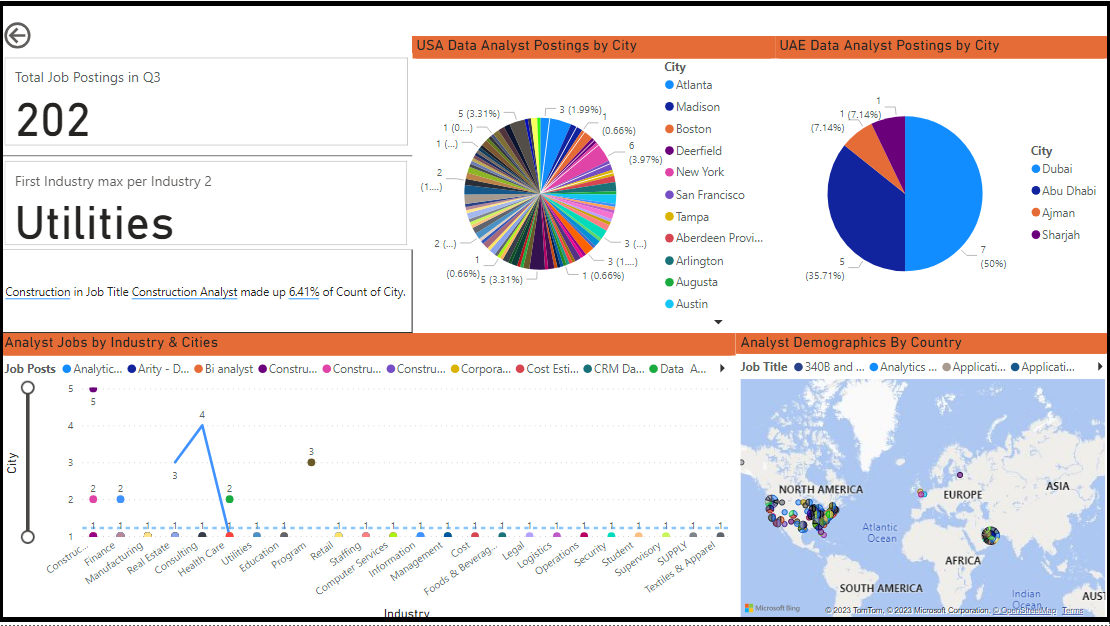

Layout of this report page (visuals, bound fields, positions):
{"tool":"powerbi","page":{"name":"Page 1","canvas":[1280,720],"ordinal":0},"visuals":[{"type":"pieChart","fields":{"Y":["CountNonNull(UAE Data 2(uae_data_jobs).Job Title)"],"Category":["UAE Data 1(uae_jobs).City","UAE Data 2(uae_data_jobs).City"]},"box":[894.6,40.3,385.1,343],"z":0},{"type":"pieChart","title":"USA Data Analyst Postings by City","fields":{"Y":["CountNonNull(USA Data 3 (us_jobs).Job Title)","CountNonNull(USA Data 3 (us_jobs).Job Title)","CountNonNull(USA Data 2 (search_results).Job Title)"],"Category":["USA Data 2 (search_results).City","USA Data 3 (us_jobs).City"]},"box":[475.5,40.3,419.1,343],"z":1000},{"type":"cardVisual","fields":{"Data":["Appended Model.Total Job Postings"]},"box":[0,60,476.4,112.8],"z":2000},{"type":"actionButton","box":[0,19.7,100.3,40.3],"z":3000},{"type":"map","title":"Analyst Demographics By Country","fields":{"Series":["Appended Model.Job Title"],"Category":["Appended Model.City","Appended Model.Country"],"Size":["CountNonNull(Appended Model.State)"]},"box":[849,383.3,430.7,336.7],"z":4000},{"type":"lineChart","title":"Analyst Jobs by Industry & Cities","fields":{"Y":["CountNonNull(Appended Model.City)"],"Category":["Appended Model.Industry"],"Series":["Appended Model.Job Title"]},"box":[0,383.3,849,336.7],"z":5000},{"type":"textbox","box":[22.4,351.9,476.4,8.1],"z":6000},{"type":"textbox","box":[0,286.6,475.5,96.7],"z":7000},{"type":"cardVisual","fields":{"Data":["Appended Model.First Industry max per Industry 2"]},"box":[0,172.8,475.5,113.7],"z":8000}]}

Visuals, with their boxes on the page's 1280x720 design canvas (x1, y1, x2, y2). These are canvas units, not pixel positions in the 1110x626 screenshot, which may show the page scaled, cropped or inside an application window:
pieChart - CountNonNull(UAE Data 2(uae_data_jobs).Job Title) x UAE Data 1(uae_jobs).City: (left=895, top=40, right=1280, bottom=383)
"USA Data Analyst Postings by City" pieChart: (left=476, top=40, right=895, bottom=383)
cardVisual - Appended Model.Total Job Postings: (left=0, top=60, right=476, bottom=173)
actionButton: (left=0, top=20, right=100, bottom=60)
"Analyst Demographics By Country" map: (left=849, top=383, right=1280, bottom=720)
"Analyst Jobs by Industry & Cities" lineChart: (left=0, top=383, right=849, bottom=720)
textbox: (left=22, top=352, right=499, bottom=360)
textbox: (left=0, top=287, right=476, bottom=383)
cardVisual - Appended Model.First Industry max per Industry 2: (left=0, top=173, right=476, bottom=286)
